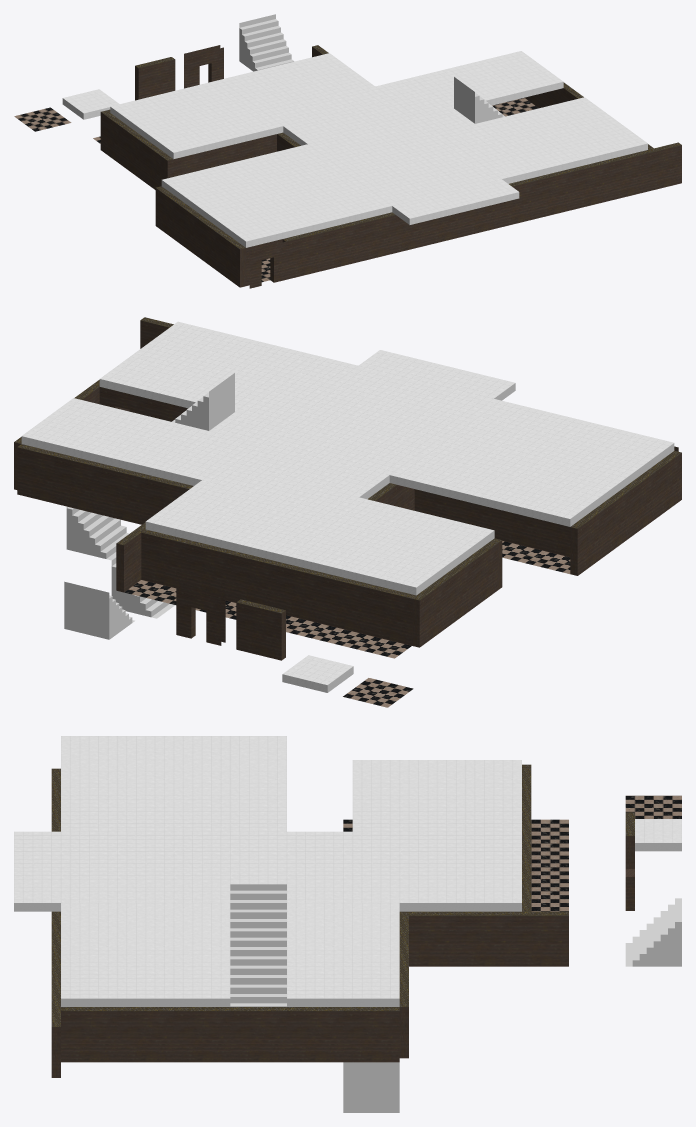
File: Recepcion_beta.glb
3 renders of one model, top to bottom at view 1: azimuth 30°, elevation 25°; view 2: azimuth 150°, elevation 25°; view 3: azimuth 270°, elevation 25°, orthographic. The views are drawn at different scales.
Visible parts, largest first — view 1: Escalera-convcol, Pared.008, Pared.014, Pared.007, Pared.015, Pared.019, Pared.052, Pared.009, Pared.006, Pared-col, Pared.013, Pared.001-col (+89 smaller); view 2: Escalera-convcol, Pared-col, Escalera-convcol.004, Pared.033, Pared.043, Pared.044, Pared.045, Pared.056, Pared.057, Pared.001-col, Pared.031, Pared.032 (+96 smaller); view 3: Escalera-convcol.002, Pared.001, Pared.036, Pared.053, Pared.062, Pared.020, Pared.054, Pared.061, Pared.063, Pared.034, Escalera-convcol.001, Escalera-convcol (+82 smaller).
Part boxes in pixels (x1,y1,x2,y2): Escalera-convcol: (239, 14, 294, 71); Pared.008: (319, 221, 359, 270); Pared.014: (532, 169, 572, 218); Pared.007: (282, 230, 322, 279); Pared.015: (569, 160, 608, 209); Pared.019: (642, 142, 681, 191); Pared.052: (606, 151, 645, 200); Pared.009: (356, 212, 395, 261); Pared.006: (246, 239, 285, 288); Pared-col: (135, 57, 175, 100); Pared.013: (499, 178, 535, 227); Pared.001-col: (184, 45, 223, 88); Escalera-convcol: (64, 581, 134, 639); Pared-col: (236, 599, 285, 660); Escalera-convcol.004: (66, 506, 129, 560); Pared.033: (141, 529, 190, 588); Pared.043: (367, 584, 415, 645); Pared.044: (322, 573, 370, 634); Pared.045: (276, 562, 325, 623); Pared.056: (100, 464, 148, 524); Pared.057: (54, 455, 103, 514); Pared.001-col: (176, 584, 225, 645); Pared.031: (231, 551, 280, 607); Pared.032: (186, 540, 235, 601); Escalera-convcol.002: (230, 884, 286, 959); Pared.001: (343, 1007, 399, 1062); Pared.036: (456, 911, 512, 966); Pared.053: (230, 1007, 286, 1062); Pared.062: (117, 1007, 173, 1062); Pared.020: (512, 911, 568, 966); Pared.054: (287, 1007, 343, 1062); Pared.061: (61, 1007, 117, 1062); Pared.063: (174, 1007, 230, 1062); Pared.034: (399, 911, 456, 966); Escalera-convcol.001: (230, 959, 286, 1006); Escalera-convcol: (625, 898, 681, 966).
Size of the model in its own units: 72 by 24 by 71.
Materials: 3 (3 with a texture image).
